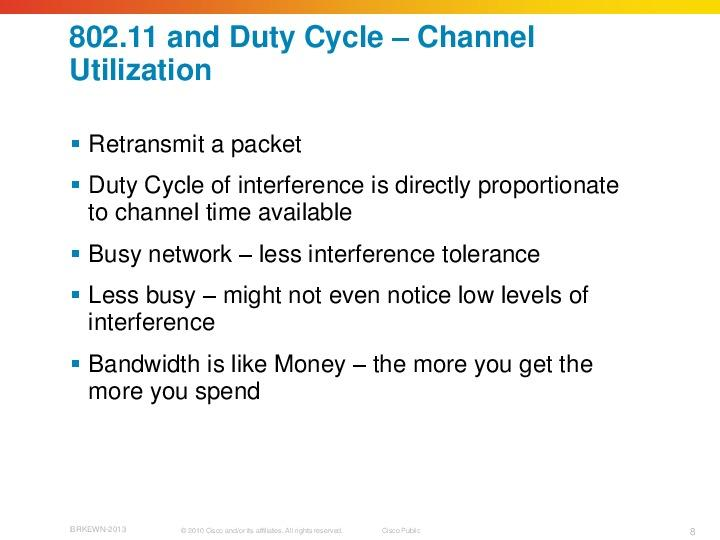paragraph: (63, 116, 661, 433)
title: (51, 18, 544, 99)
